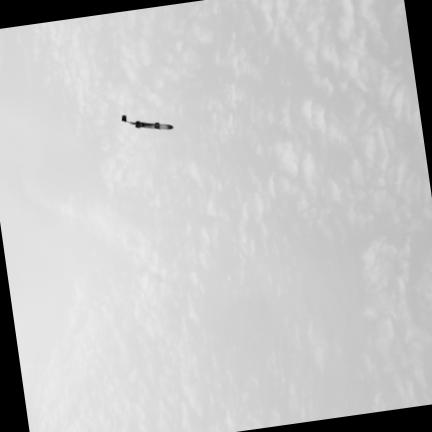Shahed: (121, 116, 172, 129)
